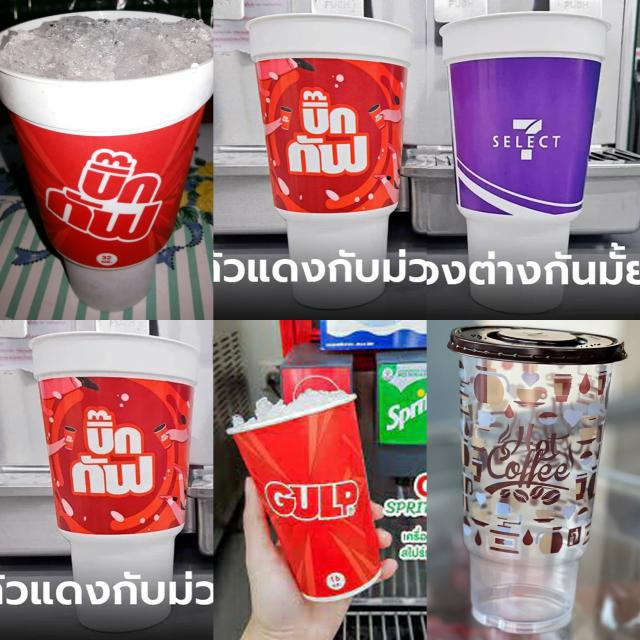Single-Use-Plastic: (444, 319, 633, 640), (433, 5, 616, 319), (237, 7, 422, 315), (21, 326, 201, 627), (0, 59, 212, 311), (234, 402, 381, 601)
